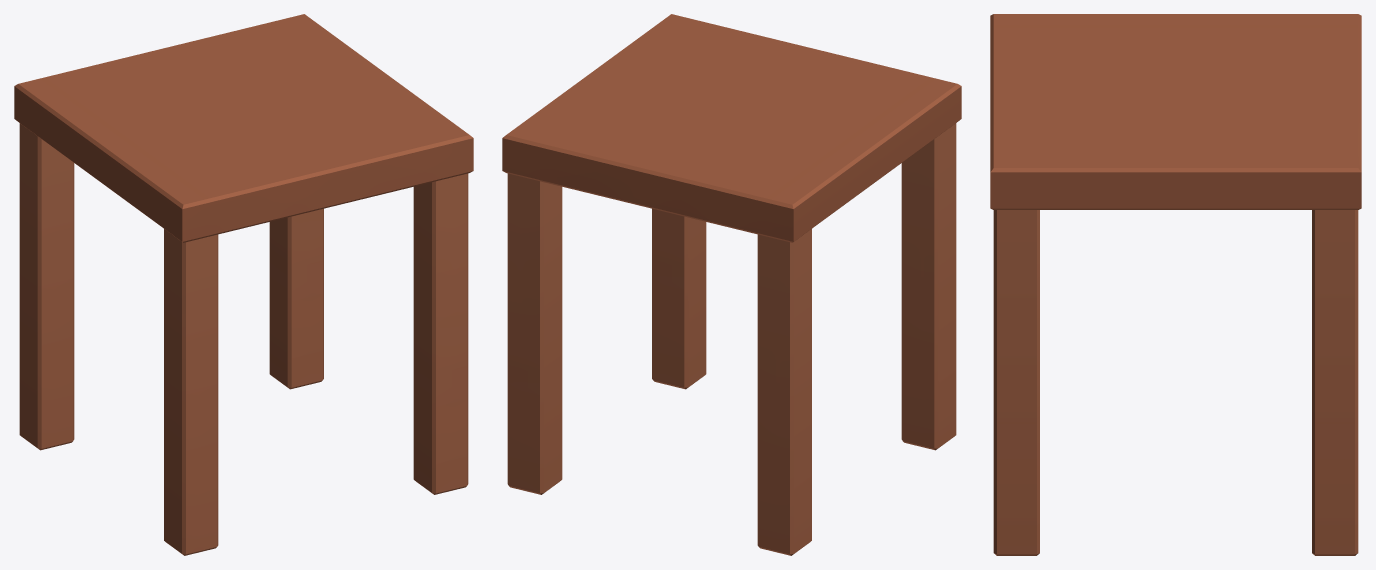
File: BedsideTable.glb
3 views of the same model, side by side, from view 1: azimuth 30°, elevation 25°; view 2: azimuth 150°, elevation 25°; view 3: azimuth 270°, elevation 25° (orthographic). The views are drawn at different scales.
Parts seen in each view (by area): view 1: BedsideTable; view 2: BedsideTable; view 3: BedsideTable.
Boxes of the visible parts, <box> form: BedsideTable: <box>14,14,473,555</box>; BedsideTable: <box>502,14,961,555</box>; BedsideTable: <box>990,14,1361,555</box>.
Size of the model in its own units: 0.4 by 0.4629 by 0.4.
Materials: 1 (1 with a texture image).
